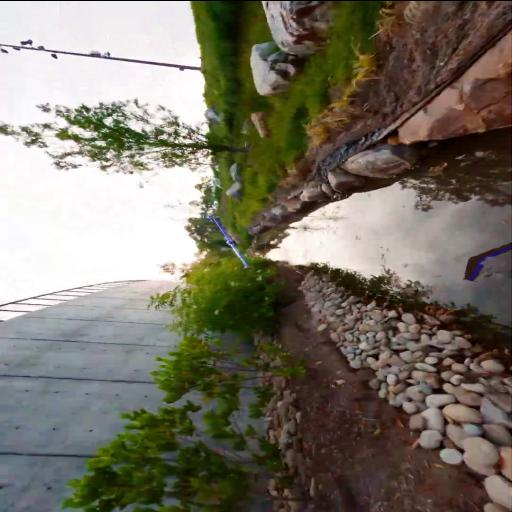uav: (205, 213, 252, 269)
